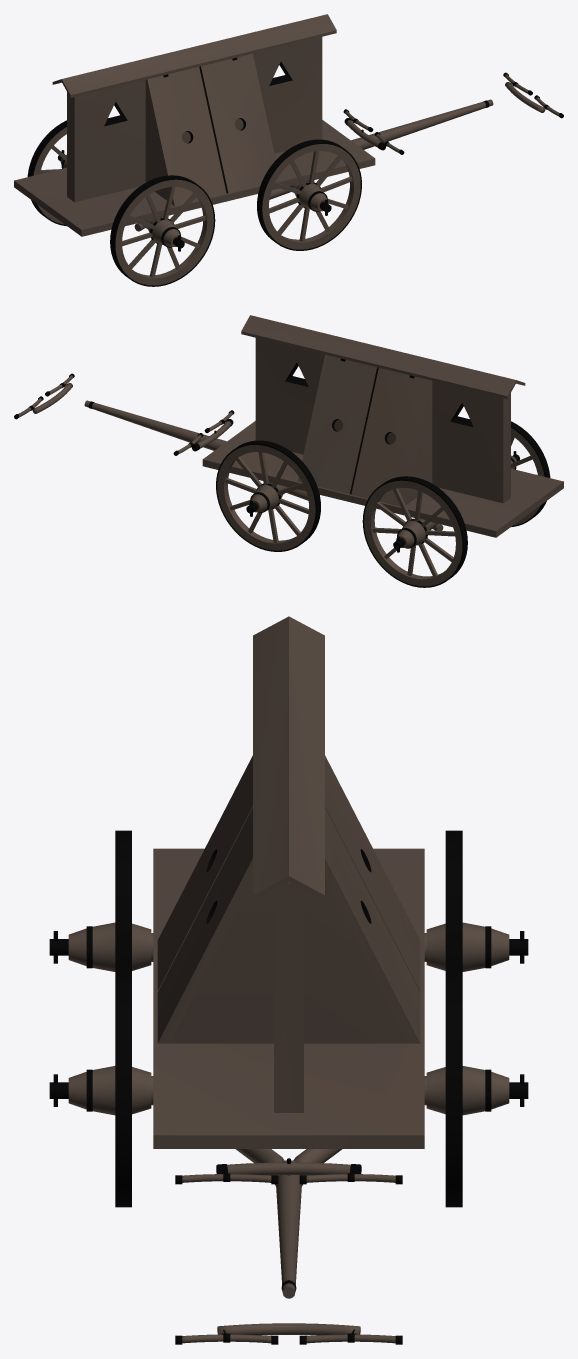
File: vuz_delovy.glb
3 renders of one model, top to bottom at view 1: azimuth 30°, elevation 25°; view 2: azimuth 150°, elevation 25°; view 3: azimuth 270°, elevation 25°, orthographic. The views are drawn at different scales.
Visible parts, largest first — view 1: staticke, kolo_PR, kolo_ZR, kolo_ZL; view 2: staticke, kolo_PL, kolo_ZL, kolo_ZR; view 3: staticke, kolo_PL, kolo_PR, kolo_ZL, kolo_ZR.
Boxes of the visible parts, left/top/right/bottom form: staticke: left=14, top=14, right=563, bottom=236; kolo_PR: left=257, top=139, right=361, bottom=250; kolo_ZR: left=110, top=175, right=215, bottom=286; kolo_ZL: left=27, top=120, right=66, bottom=226; staticke: left=14, top=315, right=563, bottom=537; kolo_PL: left=216, top=440, right=320, bottom=551; kolo_ZL: left=362, top=476, right=467, bottom=587; kolo_ZR: left=511, top=421, right=550, bottom=526; staticke: left=151, top=616, right=426, bottom=1344; kolo_PL: left=426, top=974, right=528, bottom=1207; kolo_PR: left=49, top=974, right=151, bottom=1207; kolo_ZL: left=426, top=830, right=528, bottom=973; kolo_ZR: left=49, top=830, right=151, bottom=973.
Bounding box in the file's own units: 7.97 × 2.96 × 3.39.
